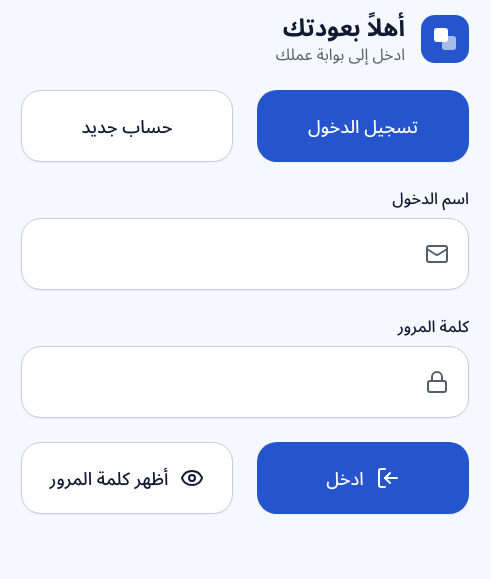
Test: AuthForm › shows the server's own refusal and stays
Type "ali@example.sa" into the field labelled "اسم الدخول".
click(245, 254); type("ali@example.sa")  # box [21,218,469,290]
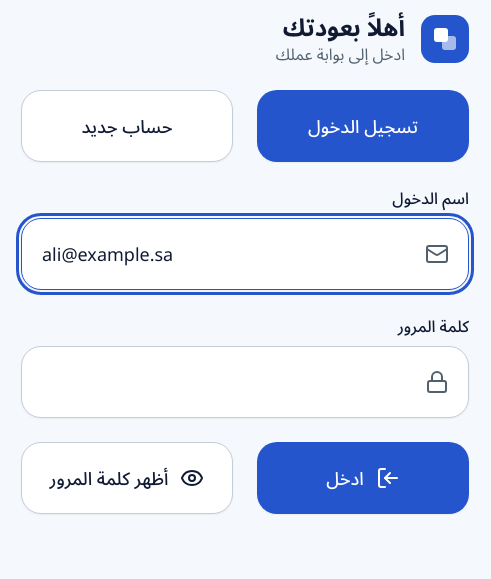
Type "wrong" into the password field labelled "كلمة المرور".
click(245, 382); type("wrong")  # box [21,346,469,418]
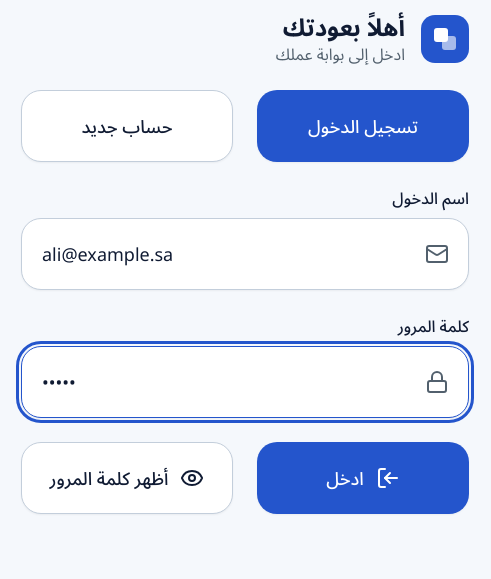
Click the button "ادخل".
click(363, 478)  # box [257,442,469,514]
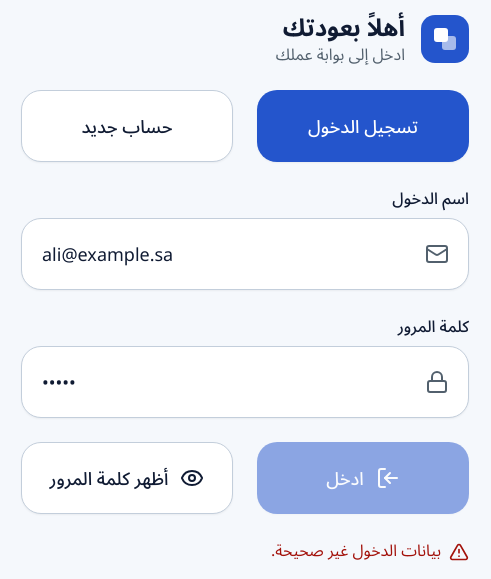
Expected: the text "بيانات الدخول غير صحيحة." is shown, [271,538,469,562]
